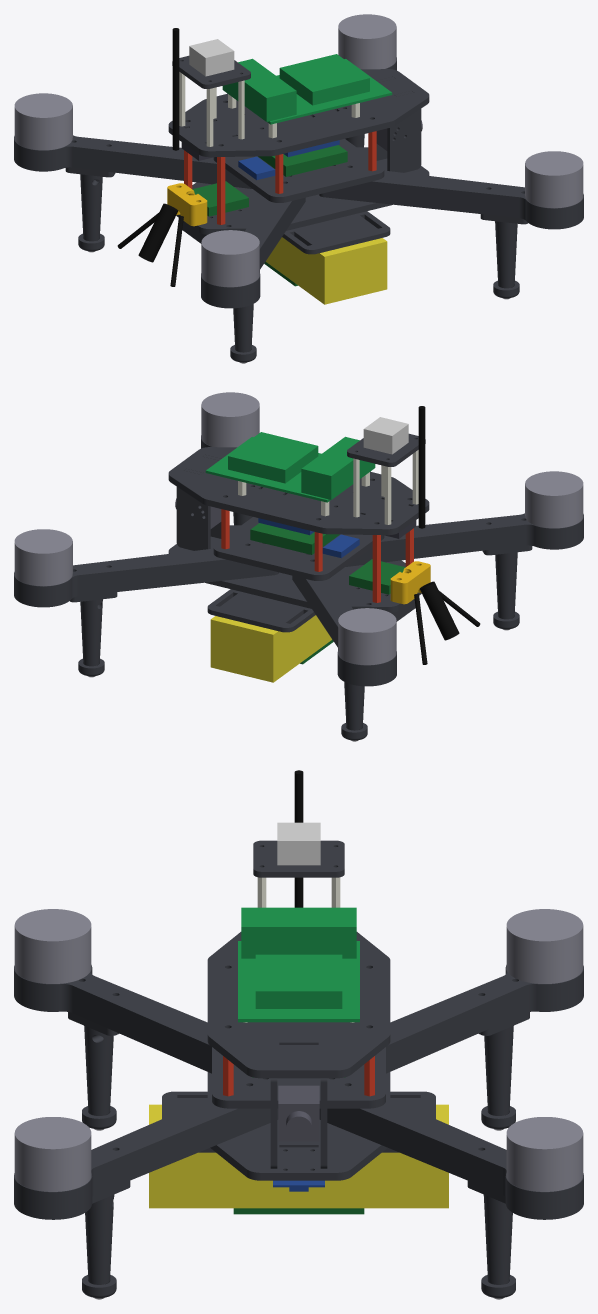
Rendered from drone.glb.
3 renders of one model, top to bottom at view 1: azimuth 30°, elevation 25°; view 2: azimuth 150°, elevation 25°; view 3: azimuth 270°, elevation 25°, orthographic. The views are drawn at different scales.
Visible parts, largest first — view 1: top_plate, arm_4, REF_rpi, arm_2, REF_battery, mid_plate, bottom_plate, arm_3, REF_motor_2, REF_motor_4, REF_motor_3, REF_motor_1 (+15 smaller); view 2: top_plate, arm_1, REF_rpi, arm_3, REF_battery, mid_plate, bottom_plate, arm_2, REF_motor_3, REF_motor_1, REF_motor_2, REF_motor_4 (+15 smaller); view 3: REF_rpi, top_plate, REF_battery, arm_1, arm_4, arm_2, arm_3, bottom_plate, REF_motor_2, REF_motor_3, REF_motor_1, REF_motor_4 (+13 smaller).
Boxes of the visible parts, bbox=[...] form: top_plate: bbox=[168, 69, 429, 157]; arm_4: bbox=[319, 170, 583, 229]; REF_rpi: bbox=[222, 54, 392, 124]; arm_2: bbox=[14, 135, 251, 188]; REF_battery: bbox=[266, 237, 387, 304]; mid_plate: bbox=[213, 139, 384, 202]; bottom_plate: bbox=[176, 147, 429, 234]; arm_3: bbox=[201, 197, 305, 308]; REF_motor_2: bbox=[14, 93, 72, 150]; REF_motor_4: bbox=[525, 151, 583, 208]; REF_motor_3: bbox=[201, 230, 259, 287]; REF_motor_1: bbox=[338, 14, 396, 69]; top_plate: bbox=[168, 447, 429, 535]; arm_1: bbox=[14, 548, 278, 607]; REF_rpi: bbox=[205, 432, 375, 502]; arm_3: bbox=[346, 513, 583, 566]; REF_battery: bbox=[210, 615, 331, 682]; mid_plate: bbox=[213, 517, 384, 580]; bottom_plate: bbox=[168, 525, 421, 612]; arm_2: bbox=[292, 575, 396, 686]; REF_motor_3: bbox=[525, 471, 583, 528]; REF_motor_1: bbox=[14, 529, 72, 586]; REF_motor_2: bbox=[338, 608, 396, 665]; REF_motor_4: bbox=[201, 392, 259, 447]; REF_rpi: bbox=[238, 907, 359, 1022]; top_plate: bbox=[207, 932, 390, 1078]; REF_battery: bbox=[149, 1104, 448, 1208]; arm_1: bbox=[319, 1097, 583, 1219]; arm_4: bbox=[14, 1097, 278, 1219]; arm_2: bbox=[386, 965, 583, 1073]; arm_3: bbox=[14, 965, 211, 1073]; bottom_plate: bbox=[207, 1072, 390, 1180]; REF_motor_2: bbox=[506, 909, 583, 983]; REF_motor_3: bbox=[14, 909, 91, 983]; REF_motor_1: bbox=[506, 1117, 583, 1191]; REF_motor_4: bbox=[14, 1117, 91, 1191].
Bounding box in the file's own units: 262 × 184 × 262.
